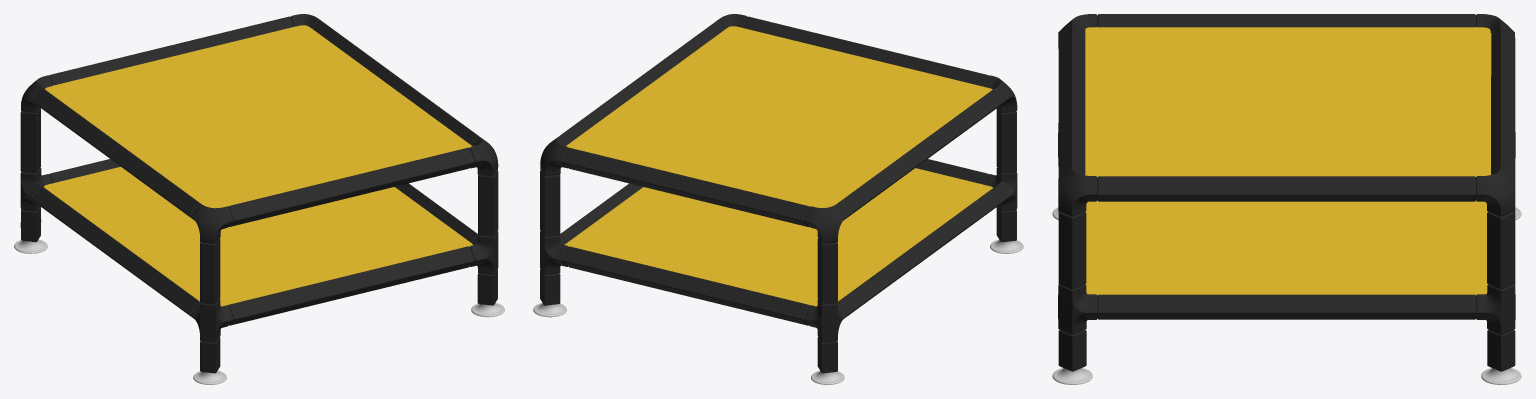
3 renders of one model, left to right at view 1: azimuth 30°, elevation 25°; view 2: azimuth 150°, elevation 25°; view 3: azimuth 270°, elevation 25°, orthographic. The views are drawn at different scales.
Visible parts, largest first — view 1: 329x374x79; view 2: 329x374x79; view 3: 329x374x79.
Part boxes in pixels (<box>): 329x374x79: <box>14,14,504,384</box>; 329x374x79: <box>533,14,1023,384</box>; 329x374x79: <box>1052,14,1521,384</box>.
Size of the model in its own units: 0.4189 by 0.2183 by 0.4632.
